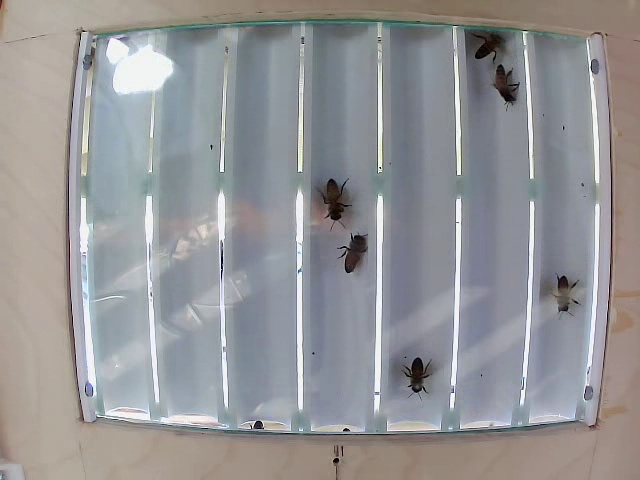bee: (334, 231, 371, 278), (492, 58, 522, 113), (546, 271, 576, 321), (402, 351, 434, 397), (319, 169, 350, 216), (470, 26, 503, 65)
